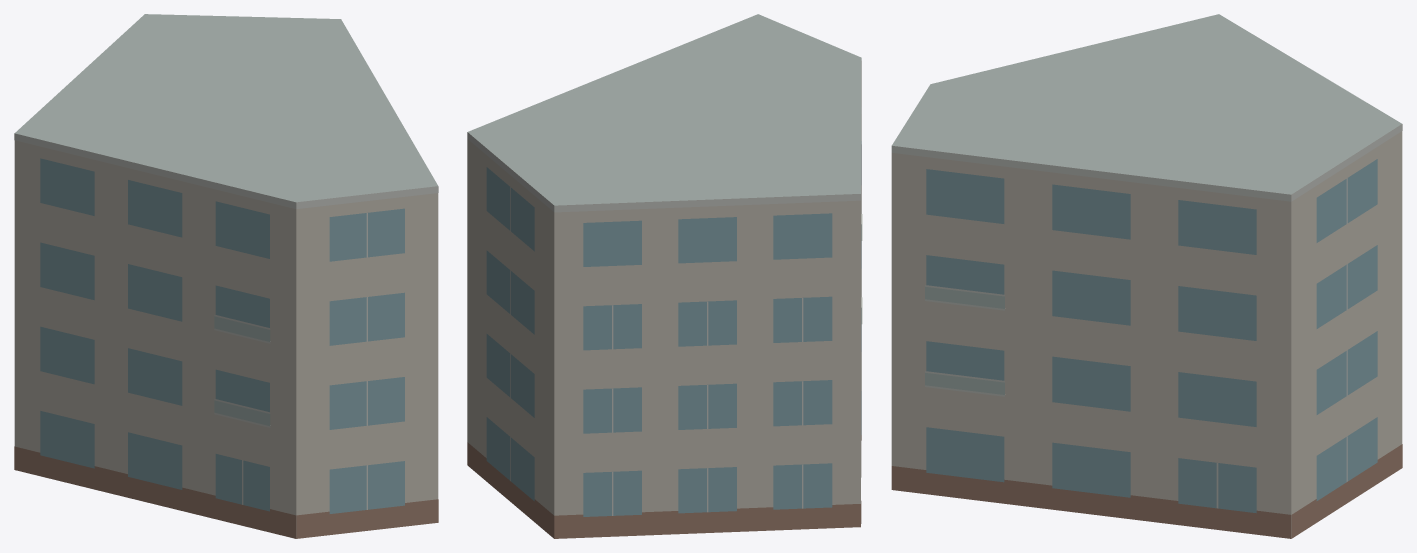
Rendered from survey-upis-32773541.glb.
The picture shows the model from 3 angles, left to right: view 1: azimuth 30°, elevation 25°; view 2: azimuth 150°, elevation 25°; view 3: azimuth 270°, elevation 25°; orthographic projection. The views are drawn at different scales.
Parts seen in each view (by area): view 1: survey-upis-32773541.tmp; view 2: survey-upis-32773541.tmp; view 3: survey-upis-32773541.tmp.
Boxes of the visible parts, box(x1,y1,x2,y2) form: survey-upis-32773541.tmp: box(14, 14, 438, 538); survey-upis-32773541.tmp: box(467, 14, 862, 538); survey-upis-32773541.tmp: box(891, 14, 1402, 538).
Bounding box in the file's own units: 13.41 × 11.9 × 16.01.
